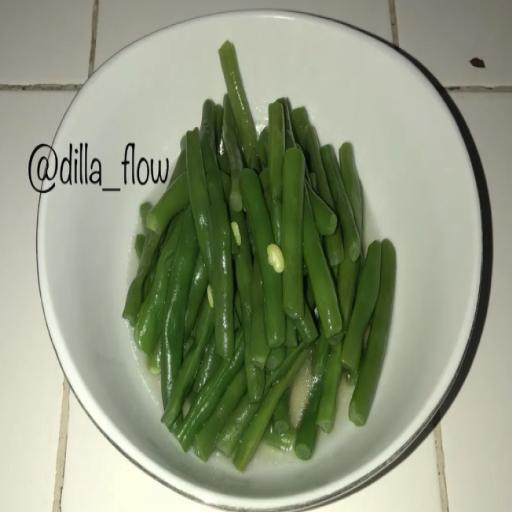buncis_rebus: (171, 28, 401, 477)
